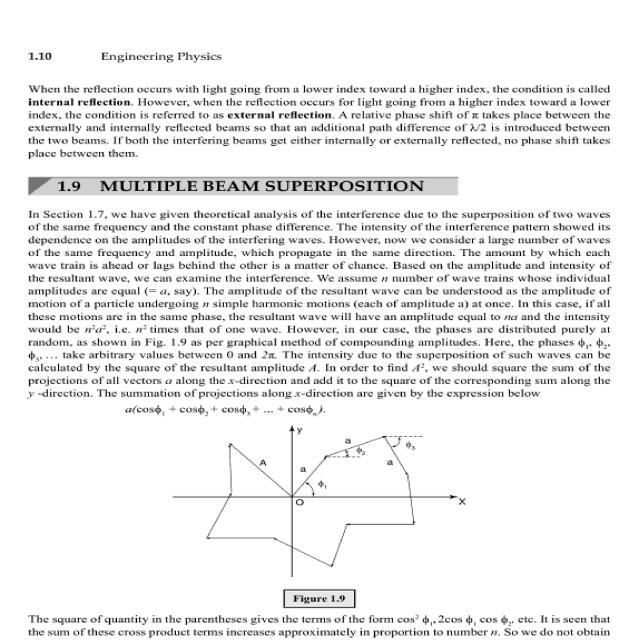diagram: (147, 419, 515, 611)
